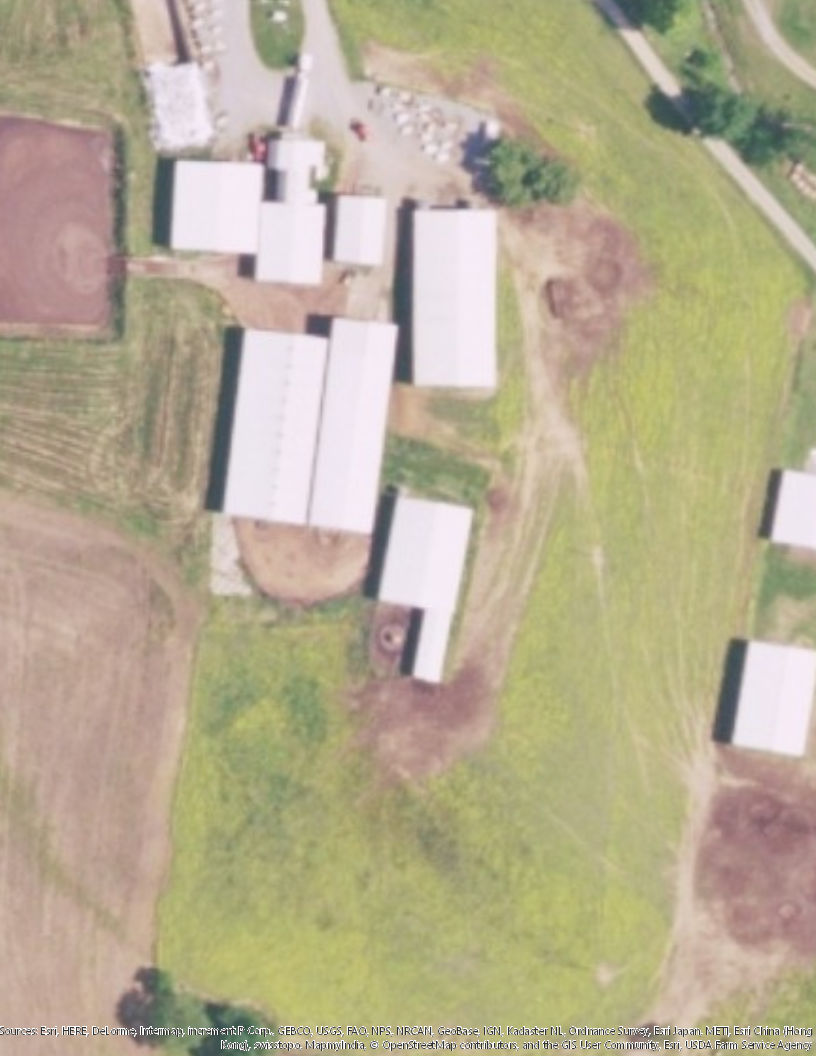cafo: (220, 296, 408, 545), (166, 120, 399, 293), (400, 196, 512, 394), (378, 489, 470, 687), (726, 632, 816, 761), (764, 459, 816, 553)
